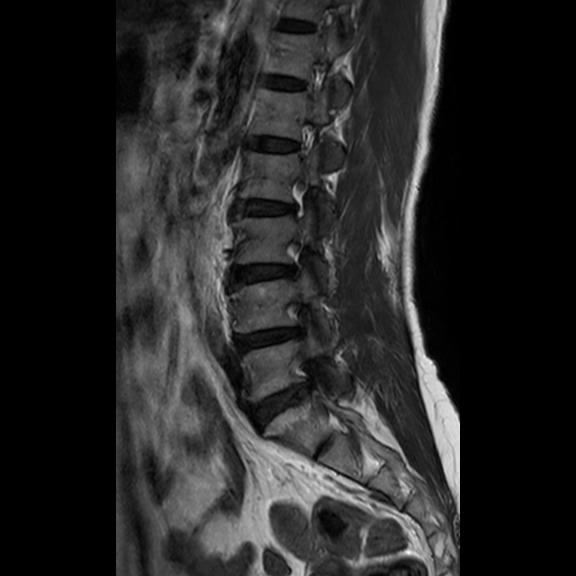LFS0: (279, 172, 319, 228), (282, 116, 325, 168)
LFS3: (275, 235, 319, 288), (277, 297, 321, 350)
